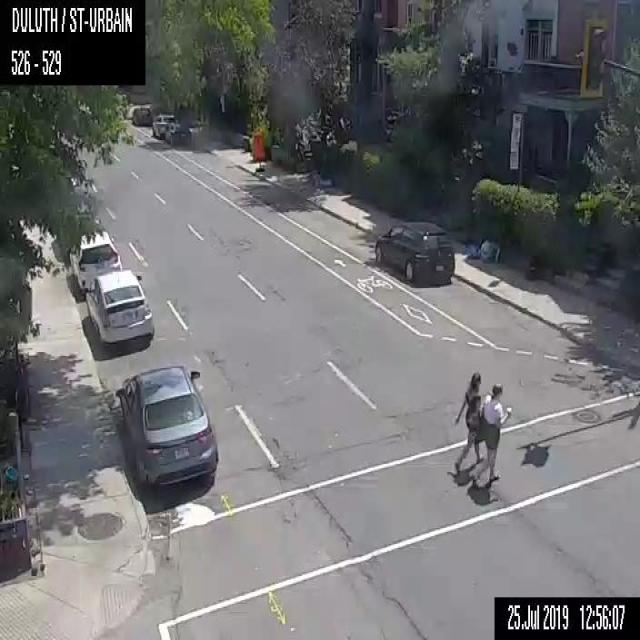construction: (252, 132, 264, 168)
pedestrian: (475, 384, 511, 483), (453, 371, 482, 484)
vehicle: (113, 359, 219, 489), (85, 269, 154, 348), (374, 220, 456, 284), (68, 227, 123, 295), (151, 113, 177, 138), (167, 123, 192, 145), (132, 106, 152, 124)
